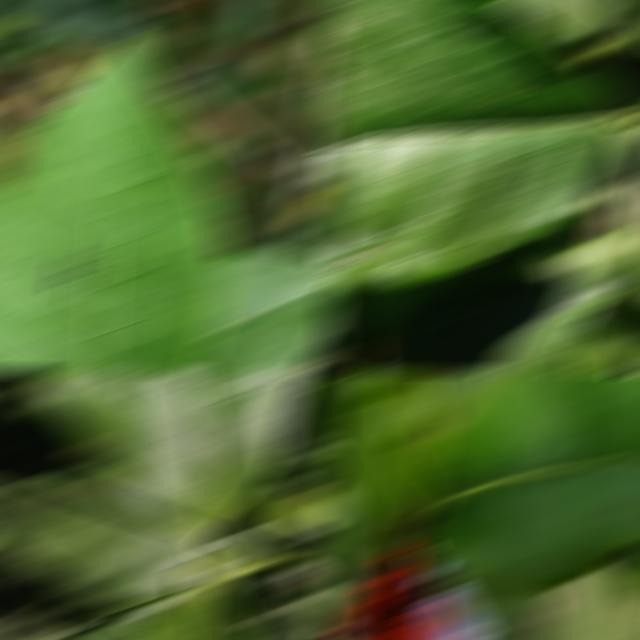Leaf: (324, 2, 631, 282), (0, 40, 230, 368), (409, 374, 640, 589), (30, 374, 312, 538), (0, 471, 210, 599), (365, 277, 629, 368), (191, 254, 340, 368), (324, 374, 442, 515), (324, 423, 398, 567), (120, 585, 264, 638), (0, 2, 160, 48), (530, 572, 628, 638), (231, 484, 327, 530), (324, 499, 358, 626), (185, 64, 288, 102), (283, 389, 340, 446), (206, 517, 276, 557), (471, 596, 535, 638), (246, 605, 325, 638), (225, 2, 283, 46), (300, 591, 340, 635), (311, 77, 340, 113)
